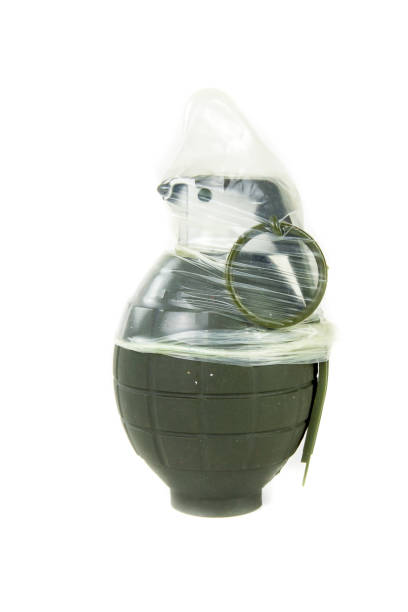e1: (112, 175, 330, 525)
